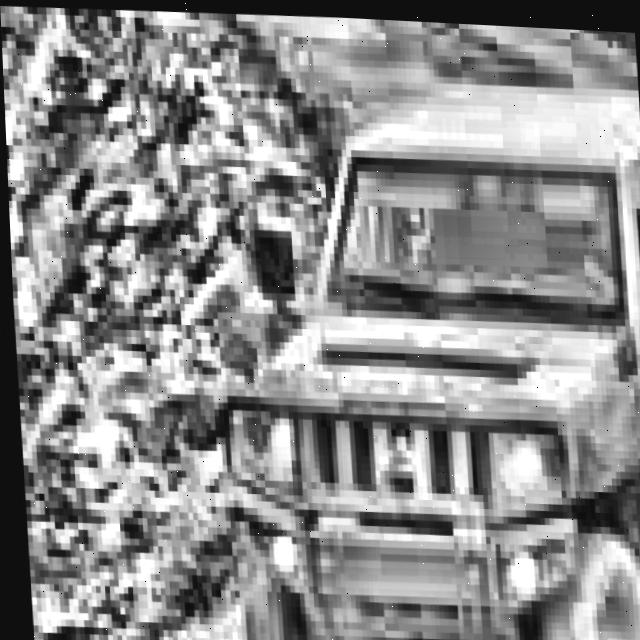light_vehicle: (165, 7, 640, 640)
